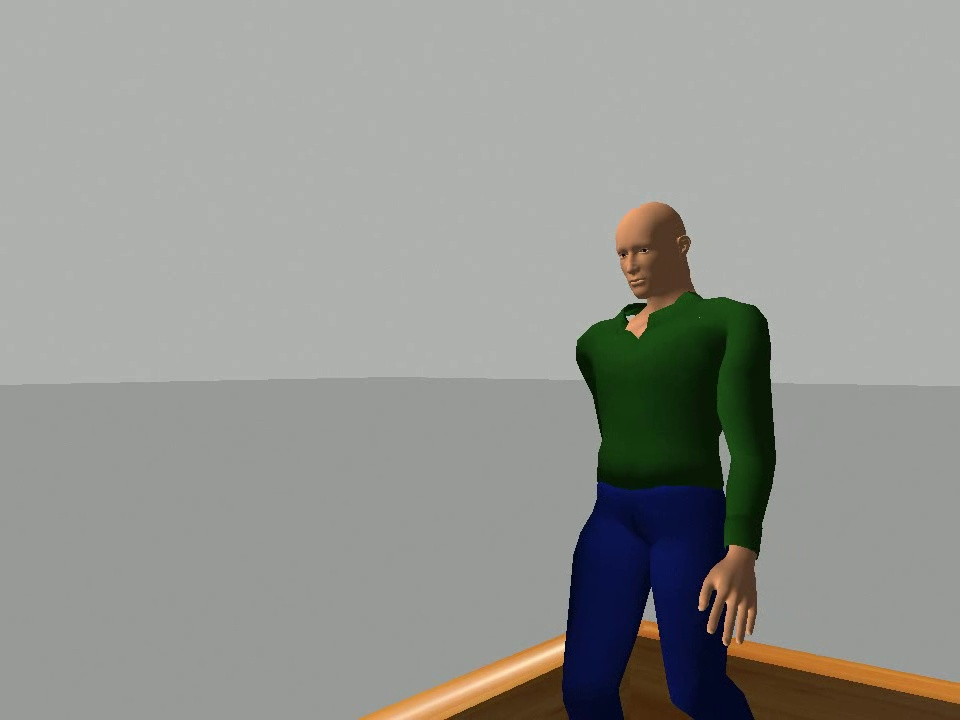person: (560, 199, 778, 720)
